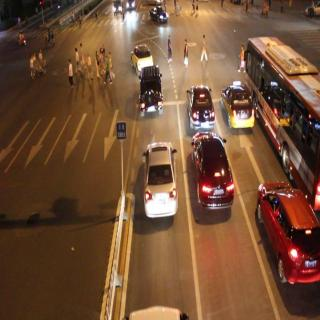BigCar: (239, 18, 320, 202)
Car: (249, 165, 320, 309), (187, 131, 237, 220), (146, 130, 177, 223), (221, 76, 259, 141), (182, 82, 218, 131), (137, 60, 165, 121), (128, 43, 157, 74), (143, 3, 171, 26)
